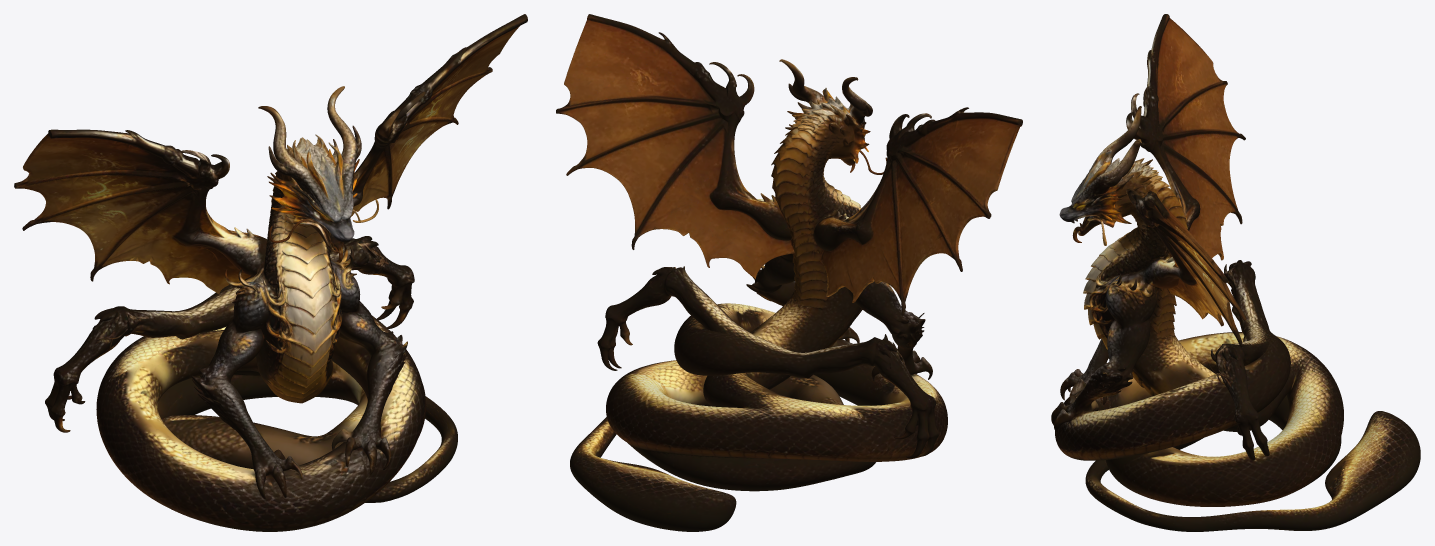
Rendered from fei-teng.glb.
3 views of the same model, side by side, from view 1: azimuth 30°, elevation 25°; view 2: azimuth 150°, elevation 25°; view 3: azimuth 270°, elevation 25° (orthographic). The views are drawn at different scales.
Visible parts, largest first — view 1: node_0; view 2: node_0; view 3: node_0.
Part boxes in pixels (bbox=[...]): node_0: bbox=[14, 14, 527, 531]; node_0: bbox=[556, 14, 1022, 531]; node_0: bbox=[1051, 14, 1420, 531].
Size of the model in its own units: 0.8977 by 0.7442 by 0.7061.
1 material, 1 textured.
